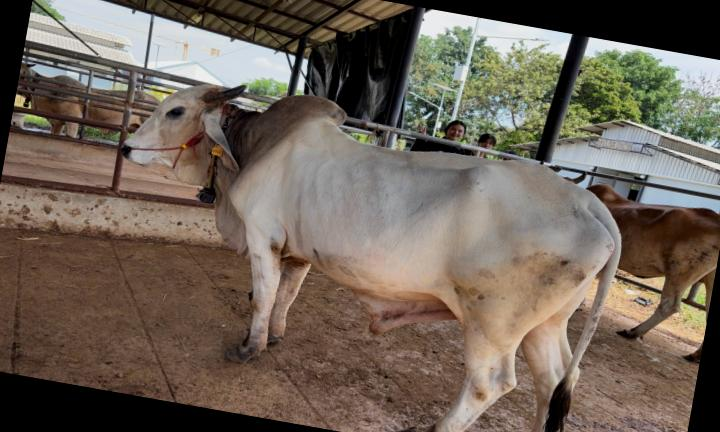Brahman: (123, 85, 621, 432)
